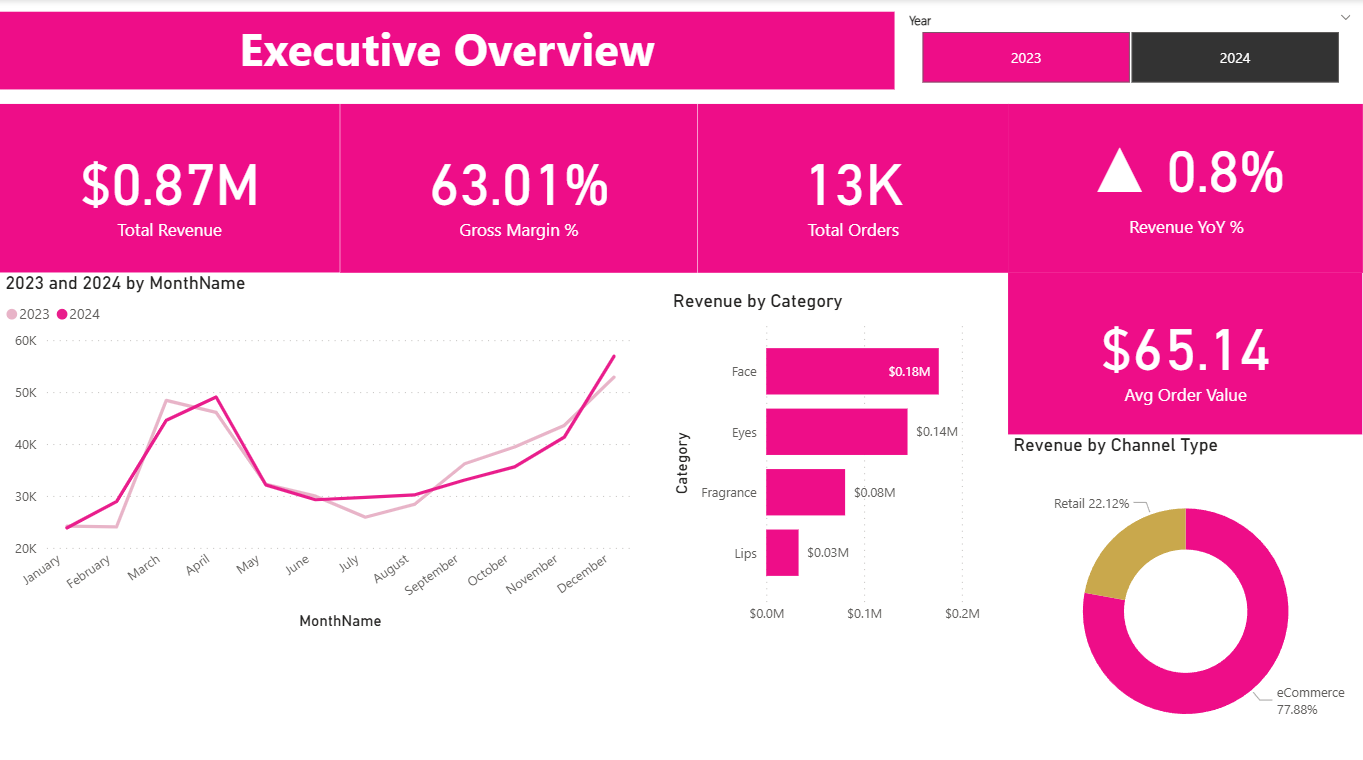

What the dashboard file says about the page in this screenshot:
{"tool":"powerbi","page":{"name":"Executive Overview","canvas":[1280,720],"ordinal":0},"visuals":[{"type":"textbox","box":[0,12.5,839.6,72.9],"z":0},{"type":"card","fields":{"Values":["00_Measures.Total Revenue"]},"box":[0,98.2,318.7,159.3],"z":1000},{"type":"slicer","fields":{"Values":["DimDate.Year"]},"box":[839.8,5.8,440.1,79.1],"z":2000},{"type":"lineChart","fields":{"Category":["DimDate.MonthName"],"Y":["00_Measures.Revenue 2023","00_Measures.Revenue 2024"]},"box":[0,256.2,600,339.6],"z":5000},{"type":"card","fields":{"Values":["00_Measures.Total Orders"]},"box":[654.5,98.5,291.5,158.3],"z":5250},{"type":"cardVisual","fields":{"Data":["00_Measures.Revenue YoY %"]},"box":[945.9,98.3,334,158.3],"z":5500},{"type":"card","fields":{"Values":["00_Measures.Avg Order Value"]},"box":[945.8,256.2,333.3,152.1],"z":6000},{"type":"donutChart","title":"Revenue by Channel Type","fields":{"Category":["DimChannel.ChannelType"],"Y":["00_Measures.Total Revenue"]},"box":[945.8,408.3,333.3,312.5],"z":7000},{"type":"clusteredBarChart","title":"Revenue by Category","fields":{"Y":["00_Measures.Total Revenue"],"Category":["DimProduct.Category"]},"box":[627.1,272.9,318.8,322.9],"z":8000},{"type":"card","fields":{"Values":["00_Measures.Gross Margin %"]},"box":[318.8,97.9,335.4,158.3],"z":9000}]}

Visuals, with their boxes in screenshot pixels (x1, y1, x2, y2), scaled from the page's 1280x720 canvas onto the 1363x760 screenshot:
textbox: [left=0, top=13, right=894, bottom=90]
card - 00_Measures.Total Revenue: [left=0, top=104, right=339, bottom=272]
slicer - DimDate.Year: [left=894, top=6, right=1362, bottom=90]
lineChart - DimDate.MonthName x 00_Measures.Revenue 2023: [left=0, top=270, right=639, bottom=629]
card - 00_Measures.Total Orders: [left=697, top=104, right=1007, bottom=271]
cardVisual - 00_Measures.Revenue YoY %: [left=1007, top=104, right=1362, bottom=271]
card - 00_Measures.Avg Order Value: [left=1007, top=270, right=1362, bottom=431]
"Revenue by Channel Type" donutChart: [left=1007, top=431, right=1362, bottom=759]
"Revenue by Category" clusteredBarChart: [left=668, top=288, right=1007, bottom=629]
card - 00_Measures.Gross Margin %: [left=339, top=103, right=697, bottom=270]
